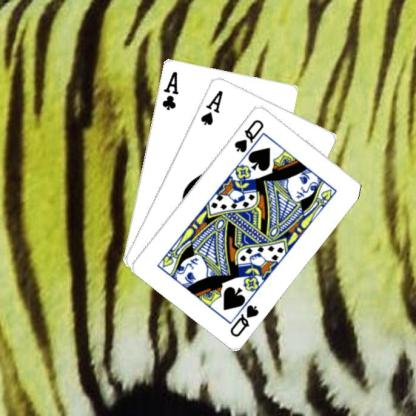AC: (159, 68, 179, 111)
AS: (198, 87, 224, 126)
QS: (232, 116, 265, 154), (227, 301, 260, 338)
